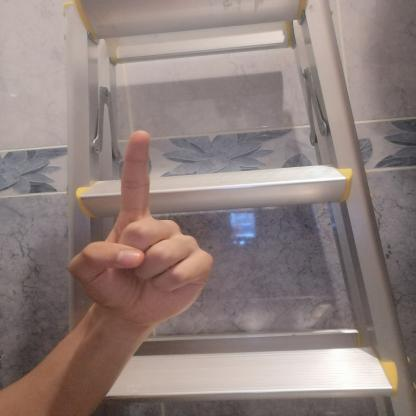BAA: (53, 120, 226, 336)
